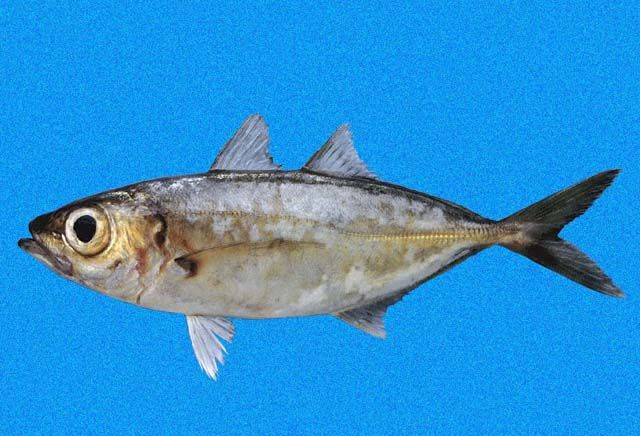fish: (17, 113, 626, 382)
